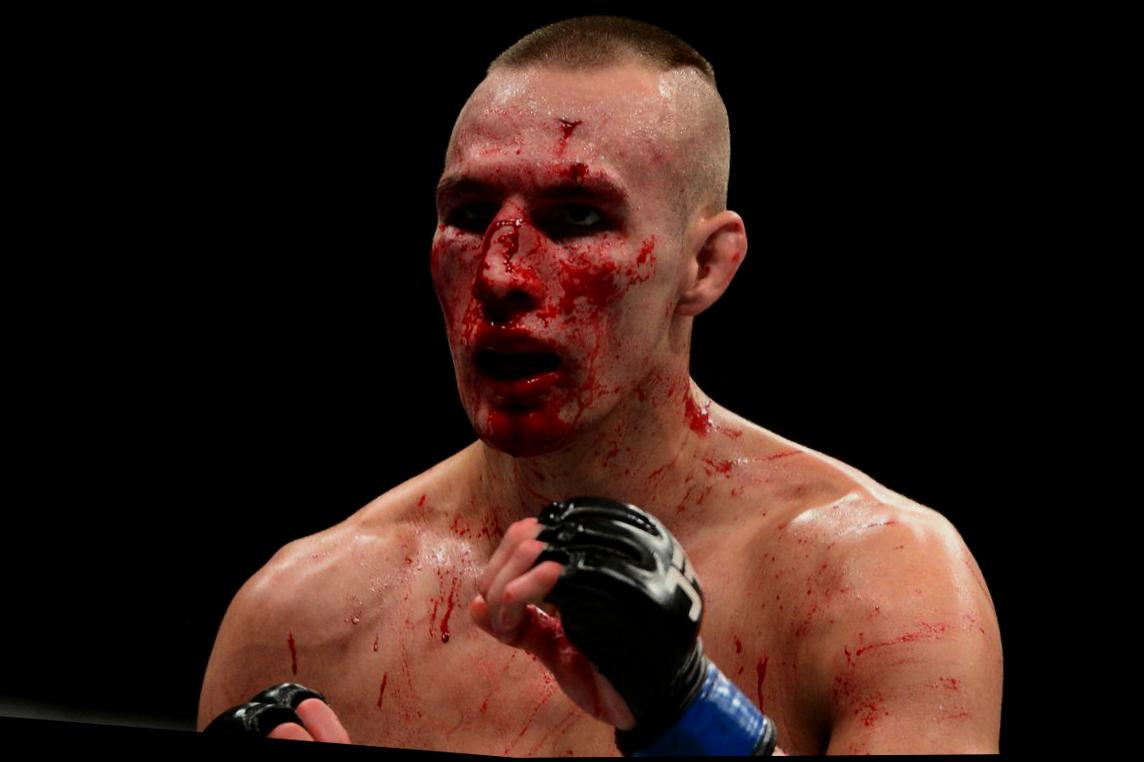Fire: (287, 119, 1011, 759)
